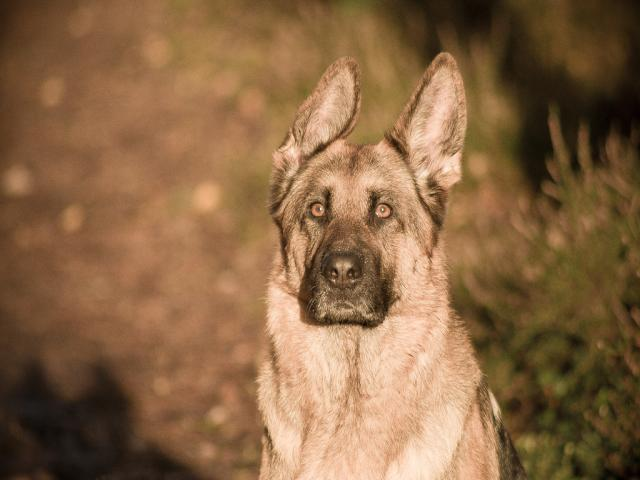Dog: (256, 52, 530, 480)
